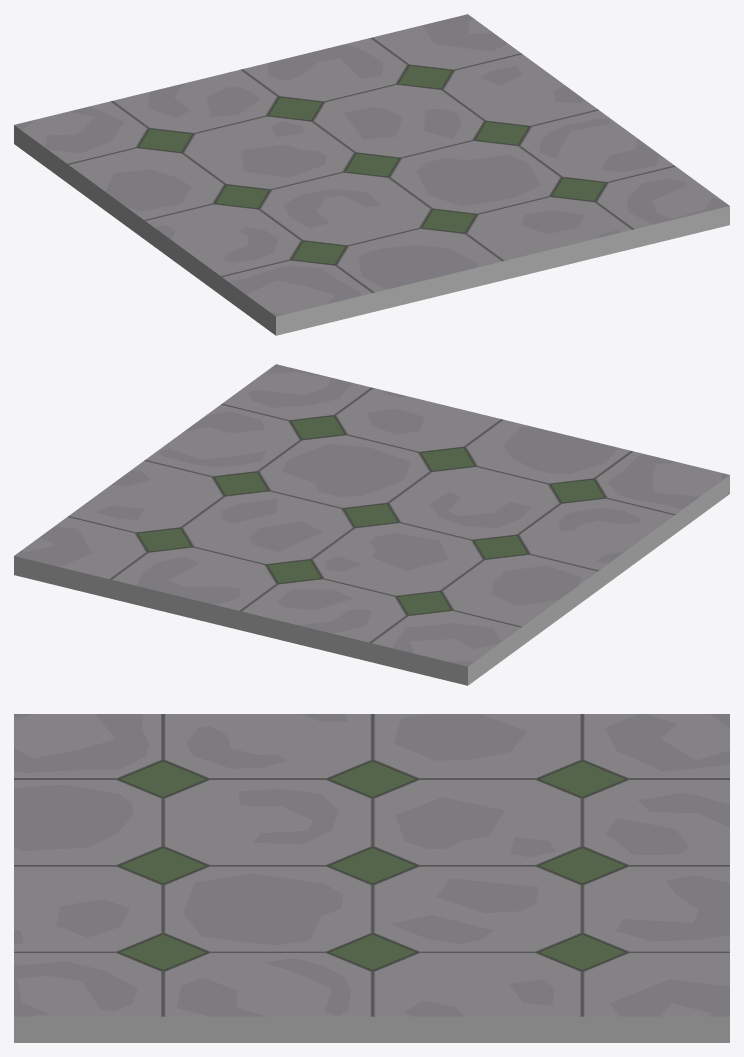
The model's file is FLOOR 3.fbx.
3 renders of one model, top to bottom at view 1: azimuth 30°, elevation 25°; view 2: azimuth 150°, elevation 25°; view 3: azimuth 270°, elevation 25°, orthographic. The views are drawn at different scales.
Parts seen in each view (by area): view 1: Floor 3; view 2: Floor 3; view 3: Floor 3.
Part boxes in pixels (left/top/right/bottom): Floor 3: left=14, top=14, right=729, bottom=335; Floor 3: left=14, top=364, right=729, bottom=685; Floor 3: left=14, top=714, right=729, bottom=1042.
Bounding box in the file's own units: 250 × 10.06 × 250.
